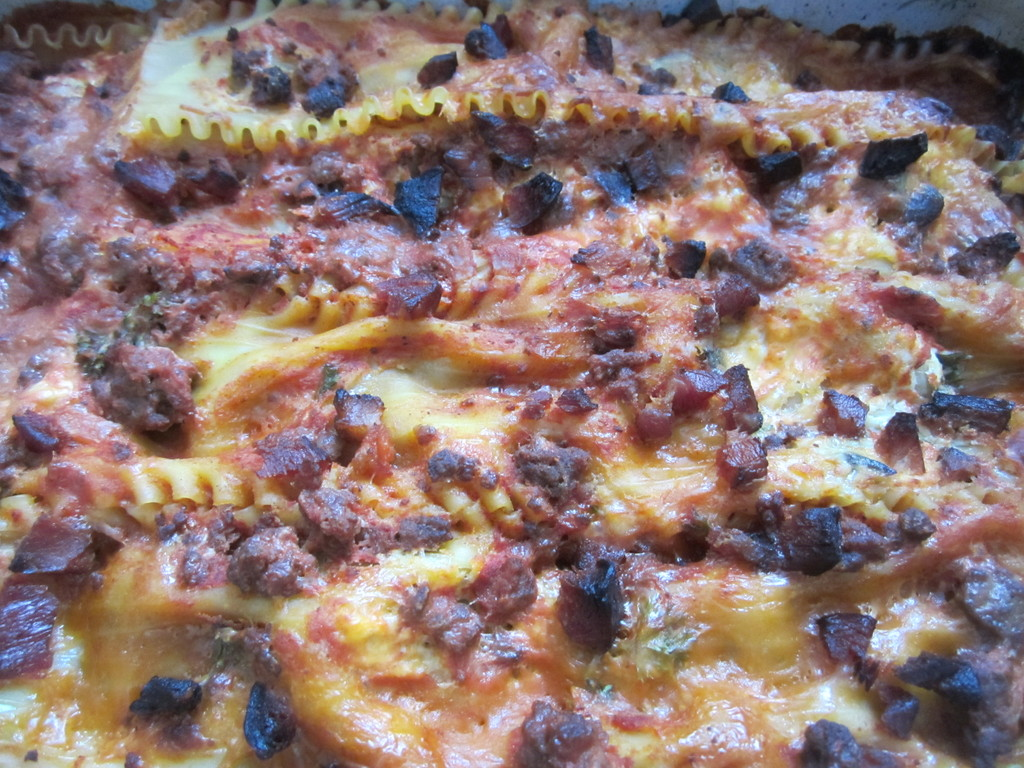Pizza: (3, 0, 1023, 757)
